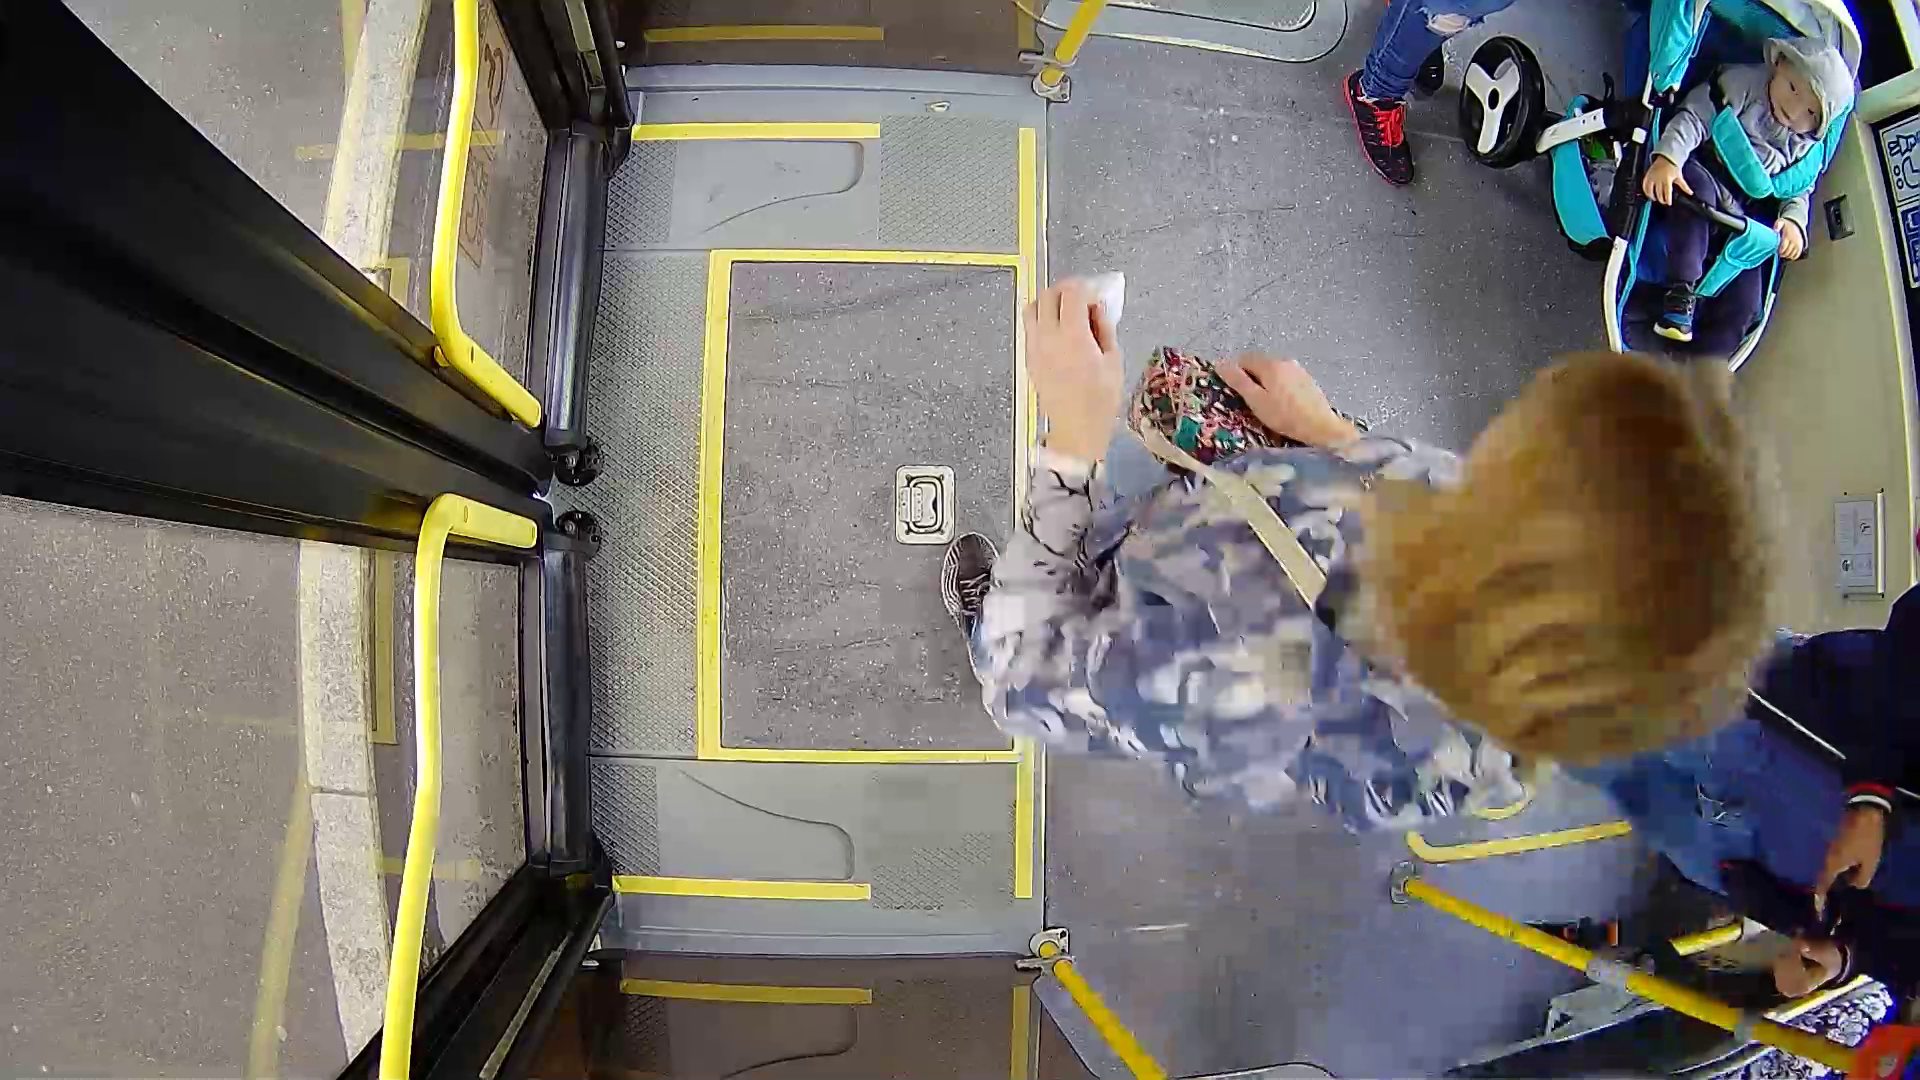person: (974, 215, 1809, 873)
